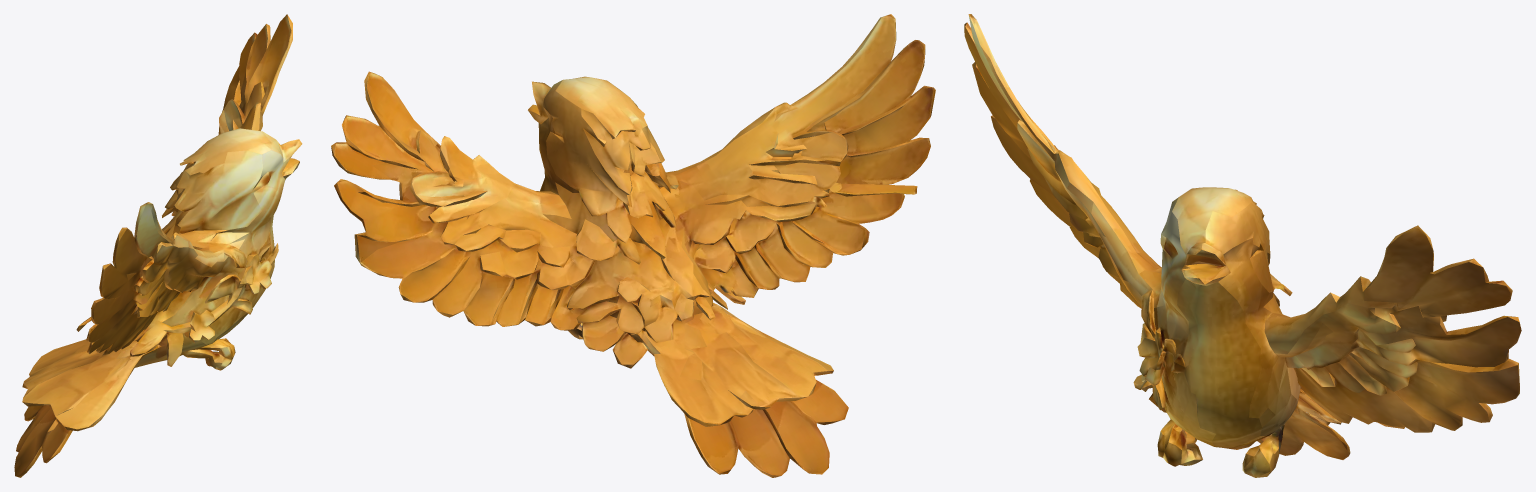
The model's file is bird-gold.glb.
3 renders of one model, left to right at view 1: azimuth 30°, elevation 25°; view 2: azimuth 150°, elevation 25°; view 3: azimuth 270°, elevation 25°, orthographic. The views are drawn at different scales.
Parts seen in each view (by area): view 1: geometry_0; view 2: geometry_0; view 3: geometry_0.
Boxes of the visible parts, box(x1,y1,x2,y2) form: geometry_0: box(14, 14, 302, 477); geometry_0: box(331, 14, 935, 477); geometry_0: box(964, 14, 1521, 477).
Bounding box in the file's own units: 0.1994 × 0.1811 × 0.2.
1 material, 1 textured.
